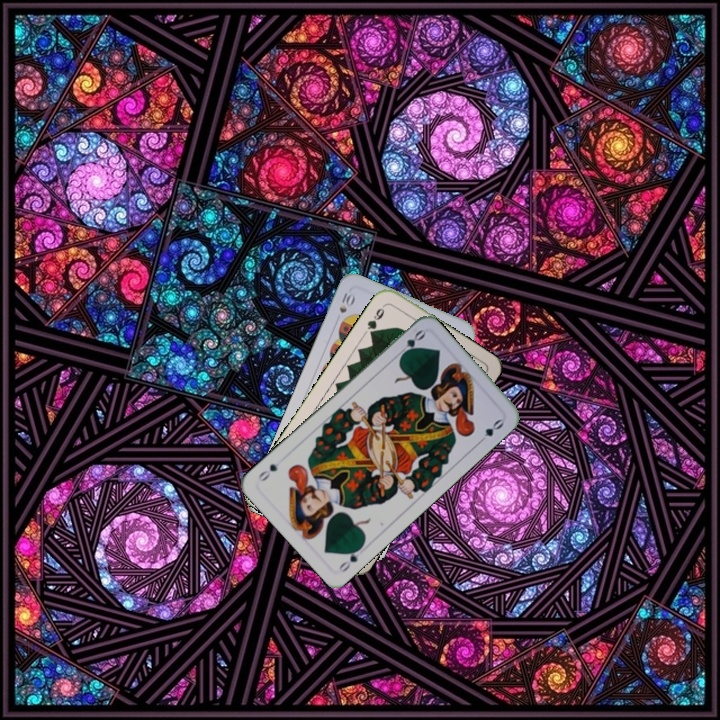G9: (363, 300, 389, 339)
GO: (393, 326, 428, 361), (335, 541, 366, 575)
S10: (335, 288, 358, 316)
